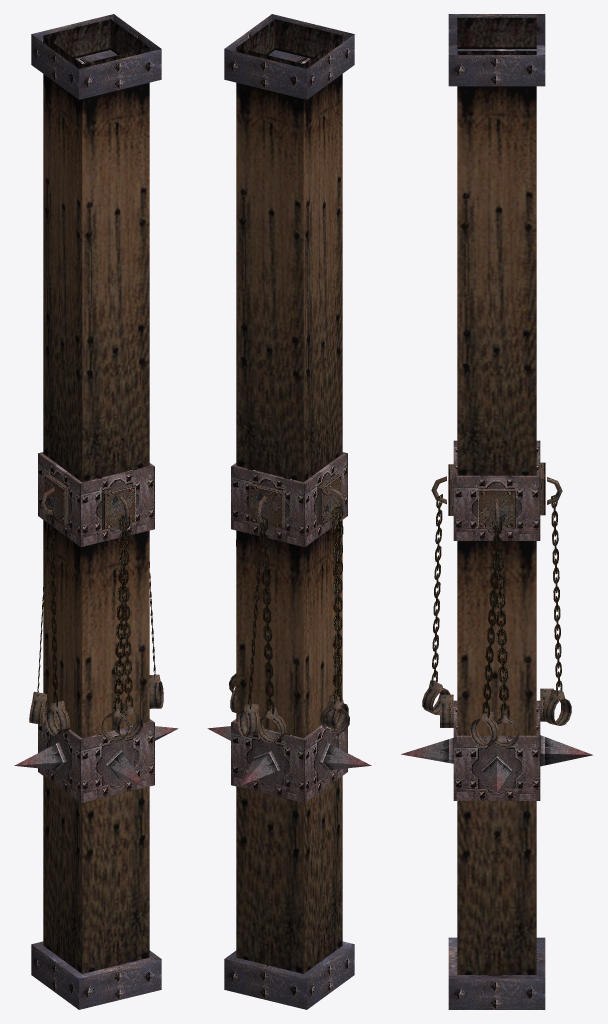
File: pillar.fbx
The picture shows the model from 3 angles, left to right: view 1: azimuth 30°, elevation 25°; view 2: azimuth 150°, elevation 25°; view 3: azimuth 270°, elevation 25°; orthographic projection.
Parts seen in each view (by area): view 1: mesh_0, mesh_29, mesh_3, mesh_1, mesh_2, mesh_27, mesh_23, mesh_11, mesh_25, mesh_13, mesh_32, mesh_28 (+4 smaller); view 2: mesh_0, mesh_29, mesh_3, mesh_1, mesh_2, mesh_15, mesh_17, mesh_19, mesh_11, mesh_32, mesh_30, mesh_20 (+4 smaller); view 3: mesh_0, mesh_29, mesh_3, mesh_1, mesh_2, mesh_5, mesh_7, mesh_9, mesh_21, mesh_27, mesh_30, mesh_28 (+5 smaller).
Part boxes in pixels (bbox=[...]): mesh_0: bbox=[43, 19, 149, 973]; mesh_29: bbox=[38, 719, 154, 802]; mesh_3: bbox=[38, 452, 154, 547]; mesh_1: bbox=[31, 14, 161, 99]; mesh_2: bbox=[31, 941, 161, 1009]; mesh_27: bbox=[113, 515, 130, 712]; mesh_23: bbox=[102, 484, 135, 529]; mesh_11: bbox=[44, 474, 68, 524]; mesh_25: bbox=[118, 517, 133, 710]; mesh_13: bbox=[49, 508, 57, 707]; mesh_32: bbox=[14, 742, 66, 770]; mesh_28: bbox=[104, 748, 142, 785]; mesh_0: bbox=[236, 19, 342, 973]; mesh_29: bbox=[231, 719, 347, 802]; mesh_3: bbox=[231, 452, 347, 547]; mesh_1: bbox=[224, 14, 354, 99]; mesh_2: bbox=[224, 941, 354, 1009]; mesh_15: bbox=[332, 507, 343, 704]; mesh_17: bbox=[248, 483, 284, 528]; mesh_19: bbox=[259, 518, 274, 714]; mesh_11: bbox=[317, 474, 341, 524]; mesh_32: bbox=[319, 742, 371, 770]; mesh_30: bbox=[241, 750, 280, 785]; mesh_20: bbox=[237, 703, 260, 735]; mesh_0: bbox=[457, 17, 536, 974]; mesh_29: bbox=[453, 700, 540, 800]; mesh_3: bbox=[453, 440, 540, 540]; mesh_1: bbox=[448, 14, 545, 86]; mesh_2: bbox=[448, 937, 545, 1009]; mesh_5: bbox=[478, 489, 515, 527]; mesh_7: bbox=[492, 521, 509, 718]; mesh_9: bbox=[482, 521, 501, 717]; mesh_21: bbox=[551, 495, 562, 696]; mesh_27: bbox=[431, 494, 442, 686]; mesh_30: bbox=[540, 735, 592, 766]; mesh_28: bbox=[401, 738, 453, 763].
Size of the model in its own units: 73.37 by 400 by 73.37.
Materials: 2 (2 with a texture image).
